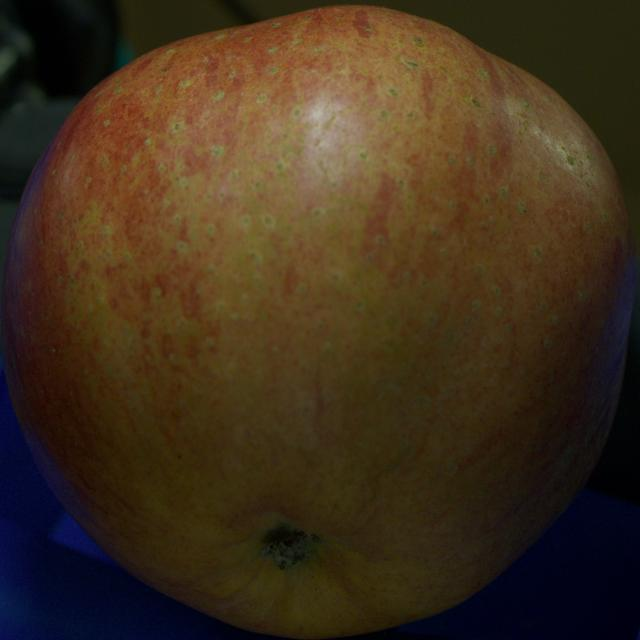apple: (2, 6, 636, 638)
